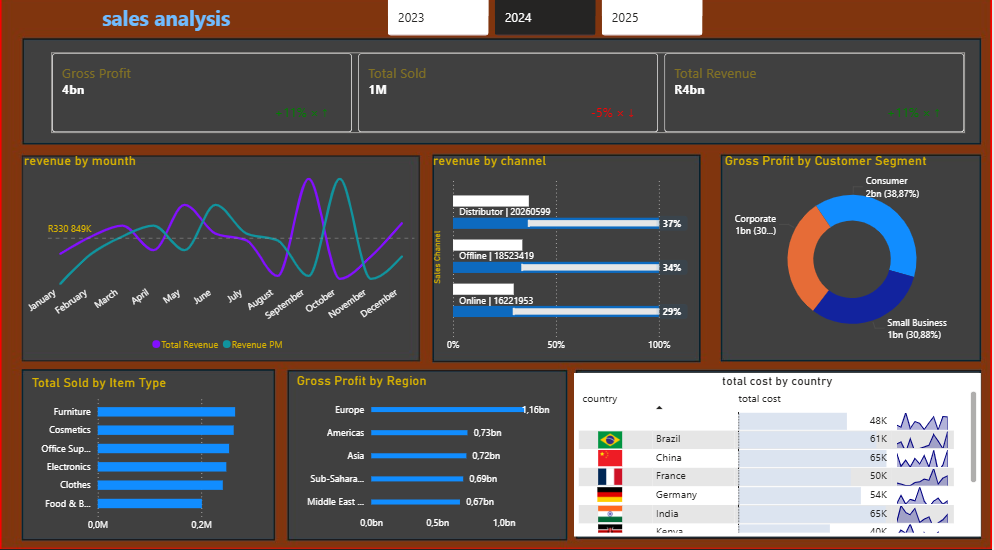

The dashboard page shown, as its layout file describes it:
{"tool":"powerbi","page":{"name":"Page 2","canvas":[1280,720],"ordinal":1},"visuals":[{"type":"lineChart","title":"revenue by mounth","fields":{"Y":["FactSales.Total Sales","FactSales.Revenue PM"],"Category":["Dimension.Month Name"]},"box":[25.7,206.9,513.7,265.4],"z":0},{"type":"advancedSlicerVisual","fields":{"Values":["Dimension.Year"]},"box":[495.2,0,416.5,60.8],"z":1000},{"type":"clusteredBarChart","title":"revenue by channel","fields":{"Y":["FactSales.rev % of channel","FactSales.Base zeo","FactSales.whole"],"Category":["DimSales.Sales Channel"]},"box":[553.5,206.5,349.7,265.8],"z":2000},{"type":"donutChart","fields":{"Category":["DimSegment.Customer Segment"],"Y":["FactSales.Gross Profit"]},"box":[930.4,206.9,338.2,255.4],"z":3000},{"type":"clusteredBarChart","fields":{"Category":["DimItem.Item Type"],"Y":["FactSales.Total Sold"]},"box":[35.7,492.3,309.7,211.2],"z":4000},{"type":"clusteredBarChart","fields":{"Y":["FactSales.Gross Profit"],"Category":["DimRegion.Region"]},"box":[378.1,490.3,351,211.6],"z":5000},{"type":"tableEx","title":"total cost by country","fields":{"Values":["DimCountry.Flag","DimCountry.Country","FactSales.total revenue","FactSales.revenue Sparkline"]},"box":[740.7,490.1,524.7,211.1],"z":6000},{"type":"cardVisual","fields":{"Data":["FactSales.Gross Profit","FactSales.Total Sold","FactSales.Total revenue"]},"box":[35.8,60.8,1222.8,132.3],"z":7000},{"type":"textbox","box":[25.5,8.5,377,52.4],"z":8000}]}

Visuals, with their boxes in screenshot pixels (x1, y1, x2, y2), scaled from the page's 1280x720 canvas onto the 994x550 screenshot:
"revenue by mounth" lineChart: x1=20, y1=158, x2=419, y2=361
advancedSlicerVisual - Dimension.Year: x1=385, y1=0, x2=708, y2=46
"revenue by channel" clusteredBarChart: x1=430, y1=158, x2=701, y2=361
donutChart - DimSegment.Customer Segment x FactSales.Gross Profit: x1=723, y1=158, x2=985, y2=353
clusteredBarChart - DimItem.Item Type x FactSales.Total Sold: x1=28, y1=376, x2=268, y2=537
clusteredBarChart - FactSales.Gross Profit x DimRegion.Region: x1=294, y1=375, x2=566, y2=536
"total cost by country" tableEx: x1=575, y1=374, x2=983, y2=536
cardVisual - FactSales.Gross Profit x FactSales.Total Sold: x1=28, y1=46, x2=977, y2=148
textbox: x1=20, y1=6, x2=313, y2=47
